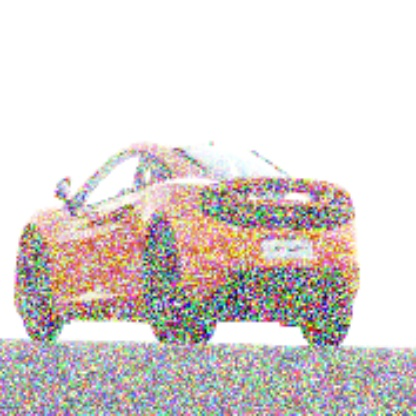Vehicle: (13, 139, 360, 348)
